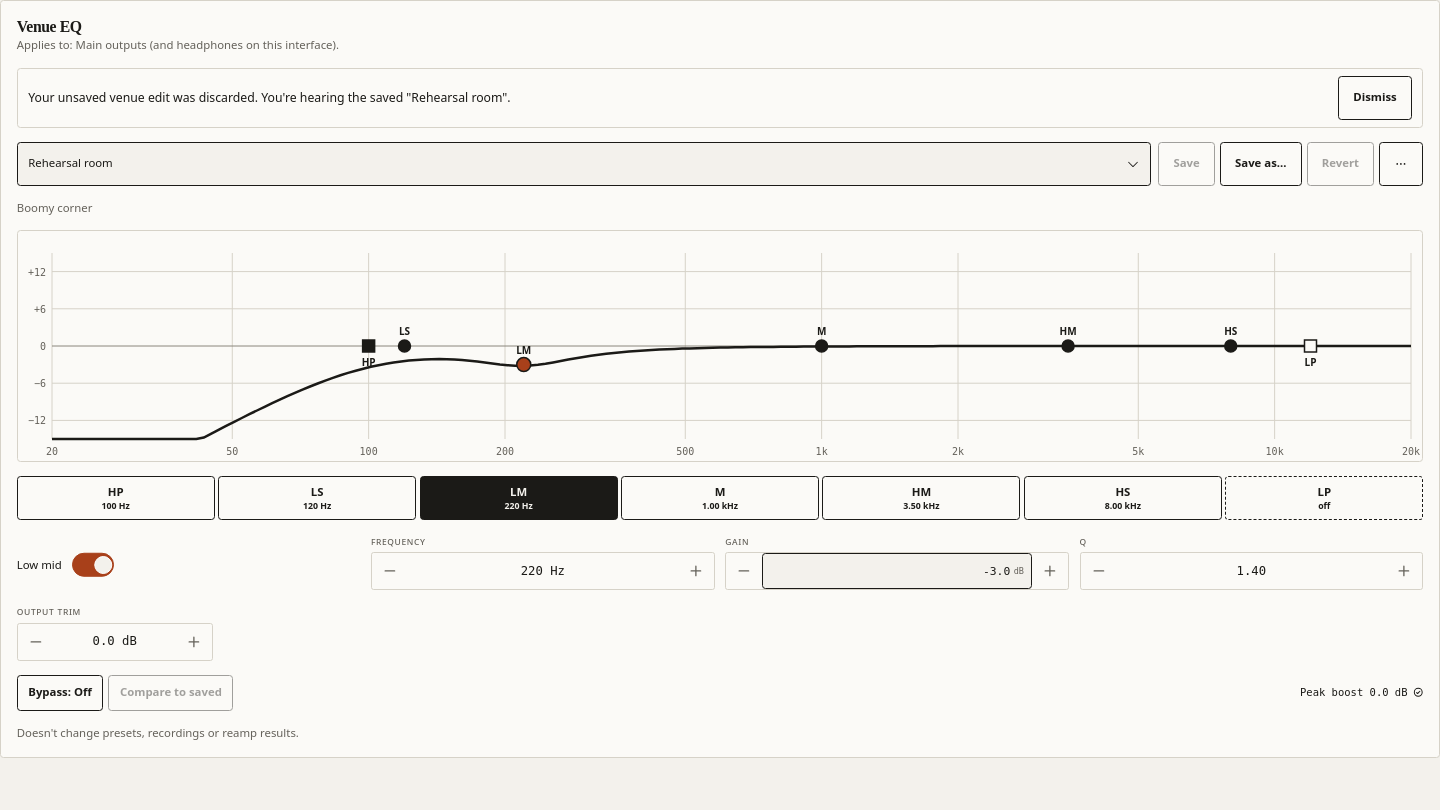
Test: shows a discarded edit once and lets it be dismissed
The width and height of the screenshot is (1440, 810).
Expected: the dropdown named "Venue profile" is shown, [17,142,1152,186]
Expected: the text "discarded" shows "Your unsaved venue edit was discarded. You're hearing the saved \"Rehearsal room\".", [28,89,511,106]
Click the button "Dismiss" at point(1375, 98), box [1338,76,1412,120]
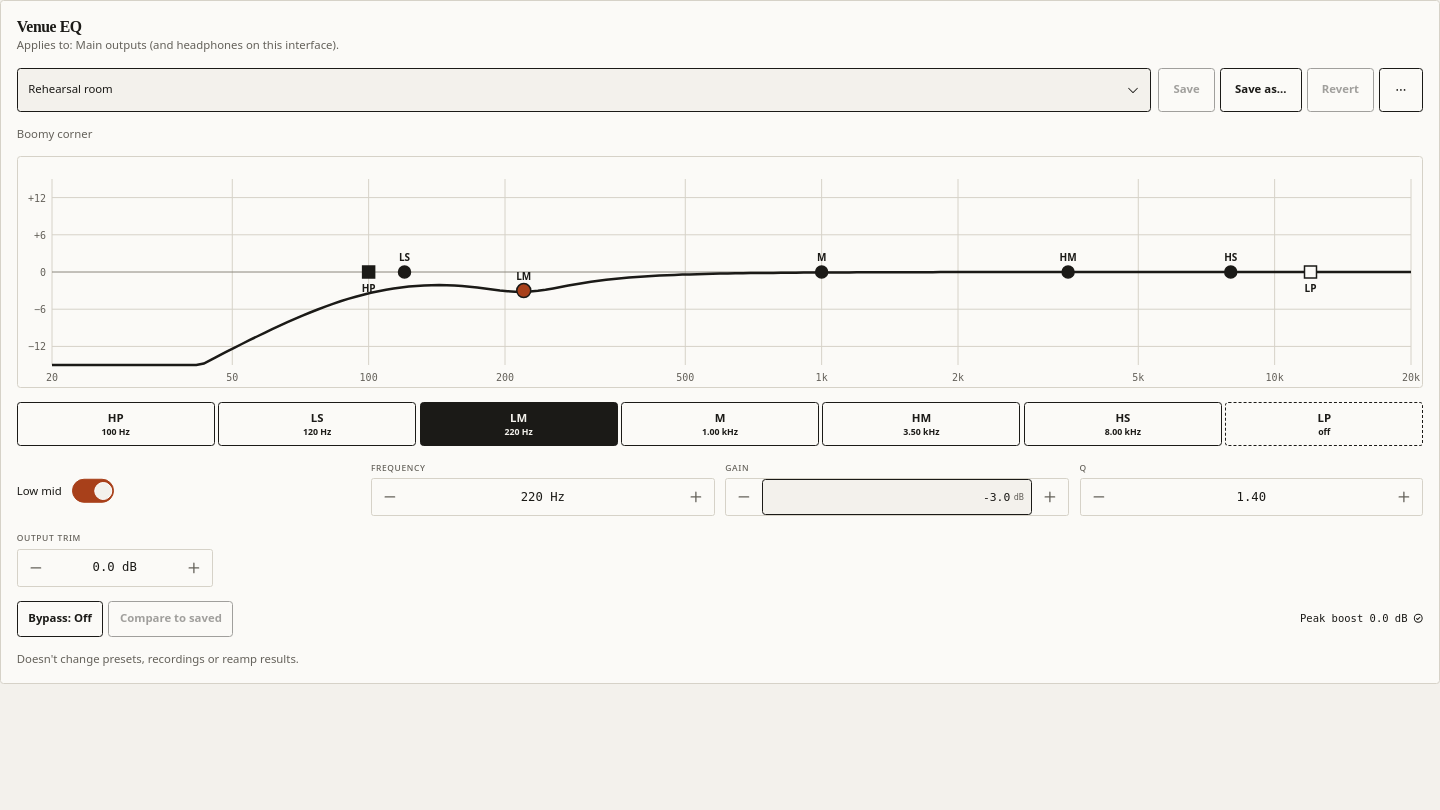
Now the text "discarded" is gone
